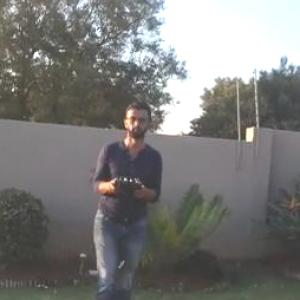follow: (86, 93, 166, 299)
